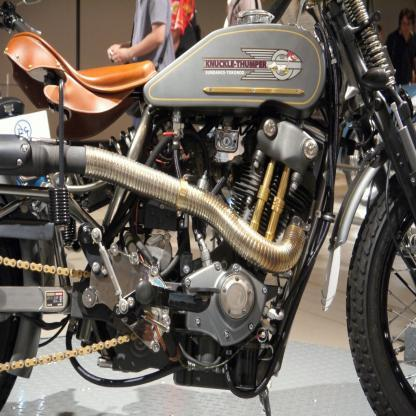motorcycle: (11, 16, 414, 414)
